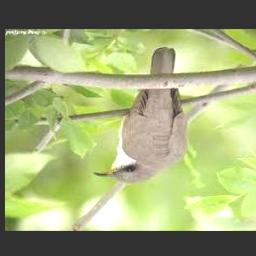Cuckoo: (93, 47, 191, 184)
